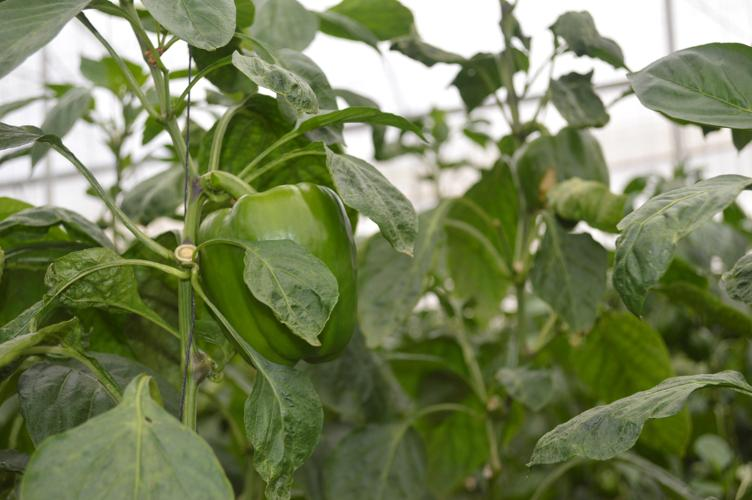BellPepper: (198, 182, 358, 363)
